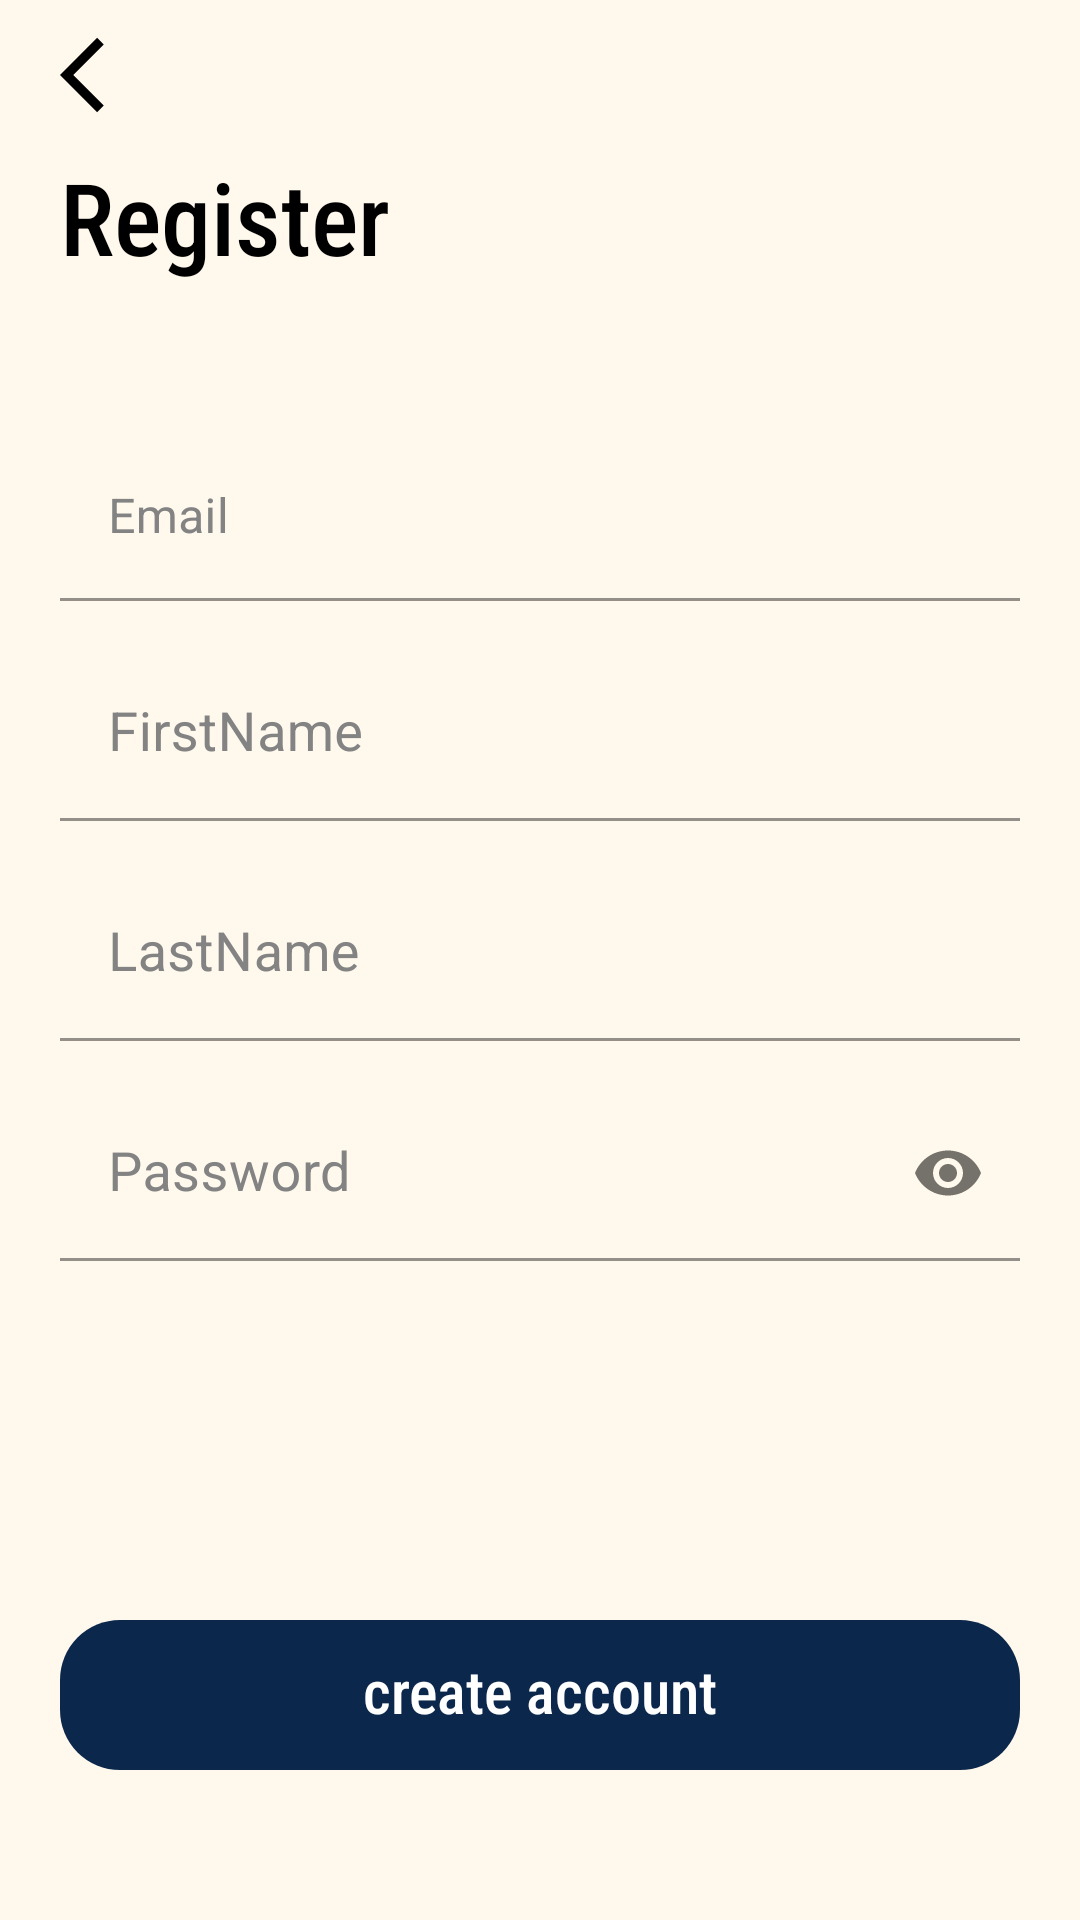

Icon click points for this 1080x1920 phone screenshot, format point (x, y):
back: point (82, 75)
